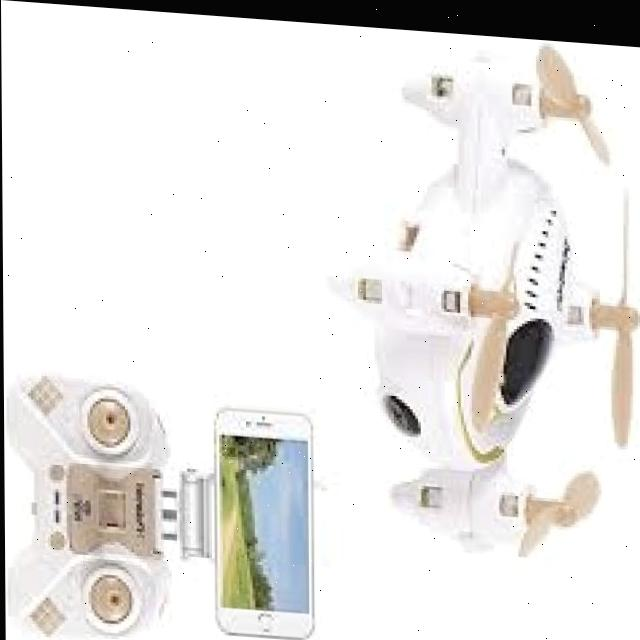drone: (322, 19, 640, 573)
